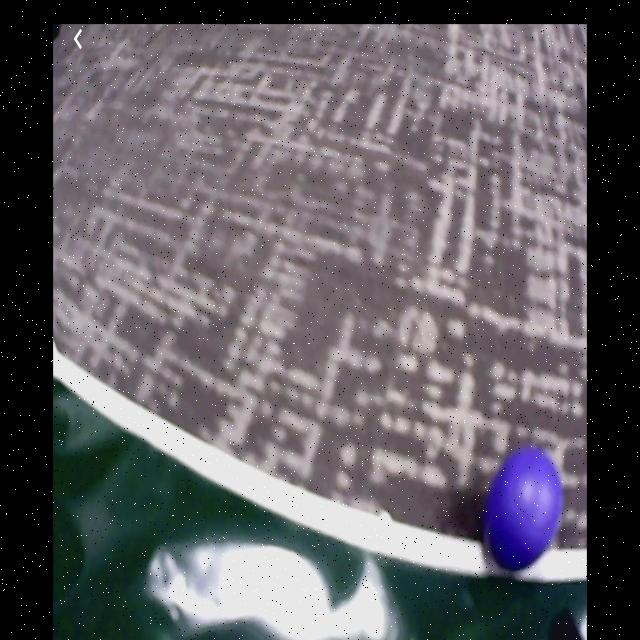ball: (485, 450, 563, 576)
